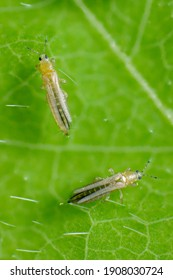Thrips: (24, 44, 75, 148), (65, 153, 156, 210)
